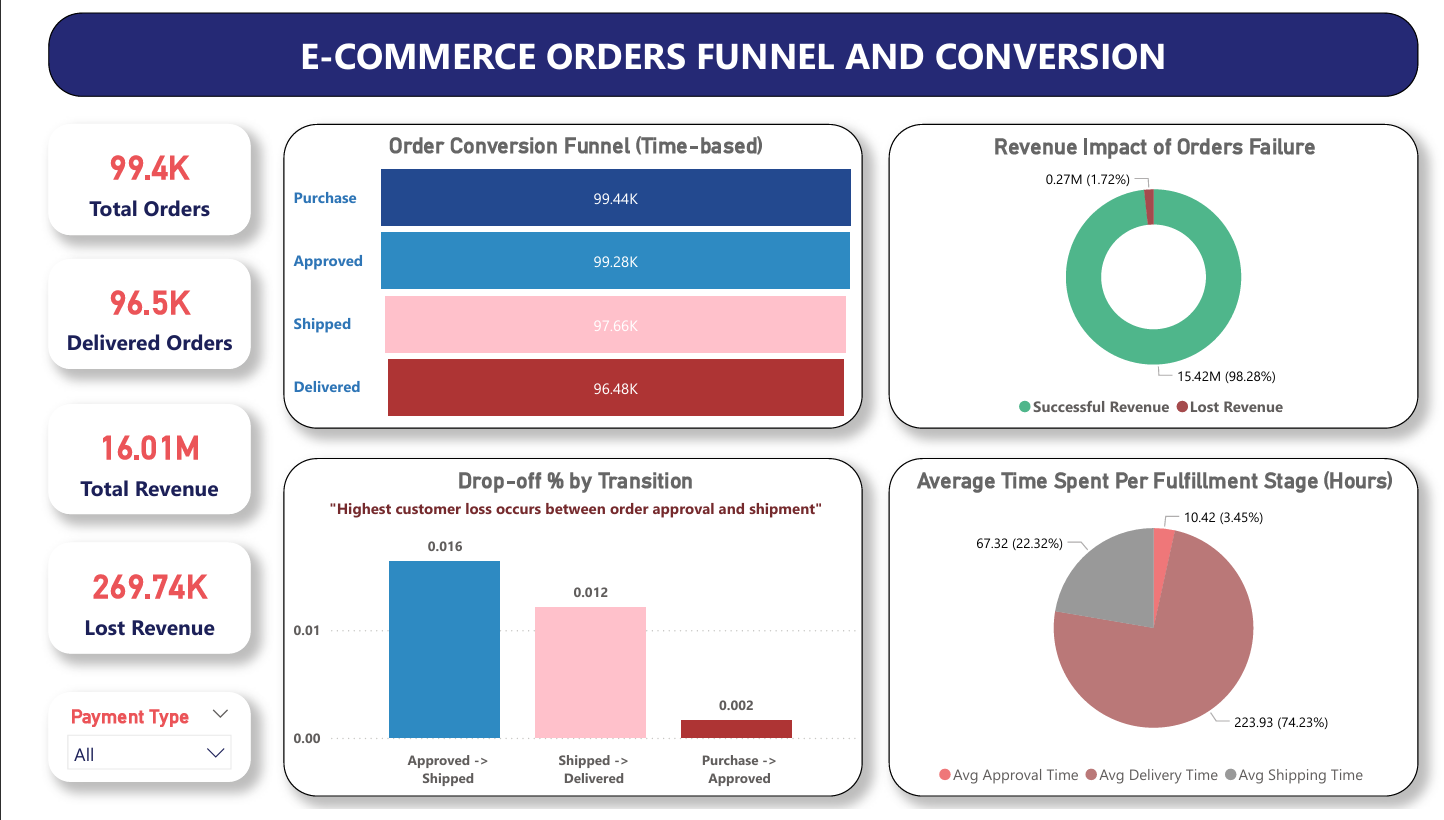

The dashboard page shown, as its layout file describes it:
{"tool":"powerbi","page":{"name":"Page 1","canvas":[1280,720],"ordinal":0},"visuals":[{"type":"funnel","title":"Order Conversion Funnel (Time-based)","fields":{"Y":["orders.Funnel Orders"],"Category":["Funnel_Stage.Stage"]},"box":[227.4,111.3,514.8,270.2],"z":0},{"type":"clusteredColumnChart","title":"Drop-off %  by Transition","fields":{"Y":["orders.Drop % by Transition"],"Category":["Stage_Tansition.Transition"]},"box":[227.4,408.4,514.8,300.8],"z":1000},{"type":"textbox","box":[18.3,12.2,1217.9,74.6],"z":2000},{"type":"card","fields":{"Values":["orders.Delivered Orders"]},"box":[17.8,230.5,179.8,98],"z":3000},{"type":"card","fields":{"Values":["orders.Total Revenue"]},"box":[17.8,359.5,179.8,98],"z":4000},{"type":"card","fields":{"Values":["orders.Lost Revenue"]},"box":[17.8,483,179.8,98.8],"z":5000},{"type":"card","fields":{"Values":["orders.Total Orders"]},"box":[17.8,111.1,179.8,98.8],"z":6000},{"type":"slicer","fields":{"Values":["payments.payment_type"]},"box":[17.8,616.1,179.8,80],"z":7000},{"type":"donutChart","title":"Revenue Impact of Orders Failure","fields":{"Y":["orders.successful Revenue","orders.Lost Revenue"]},"box":[765.5,111.3,470.8,270.2],"z":8000},{"type":"pieChart","title":"Average Time Spent Per Fulfillment Stage (Hours)","fields":{"Y":["orders.Avg APproval Time","orders.Avg Delivery Time","orders.Avg Shipping Time"]},"box":[765.5,408.4,470.8,300.8],"z":9000}]}

Visuals, with their boxes in screenshot pixels (x1, y1, x2, y2), scaled from the page's 1280x720 canvas onto the 1444x820 screenshot:
"Order Conversion Funnel (Time-based)" funnel: [x1=257, y1=127, x2=837, y2=434]
"Drop-off %  by Transition" clusteredColumnChart: [x1=257, y1=465, x2=837, y2=808]
textbox: [x1=21, y1=14, x2=1395, y2=99]
card - orders.Delivered Orders: [x1=20, y1=263, x2=223, y2=374]
card - orders.Total Revenue: [x1=20, y1=409, x2=223, y2=521]
card - orders.Lost Revenue: [x1=20, y1=550, x2=223, y2=663]
card - orders.Total Orders: [x1=20, y1=127, x2=223, y2=239]
slicer - payments.payment_type: [x1=20, y1=702, x2=223, y2=793]
"Revenue Impact of Orders Failure" donutChart: [x1=864, y1=127, x2=1395, y2=434]
"Average Time Spent Per Fulfillment Stage (Hours)" pieChart: [x1=864, y1=465, x2=1395, y2=808]
